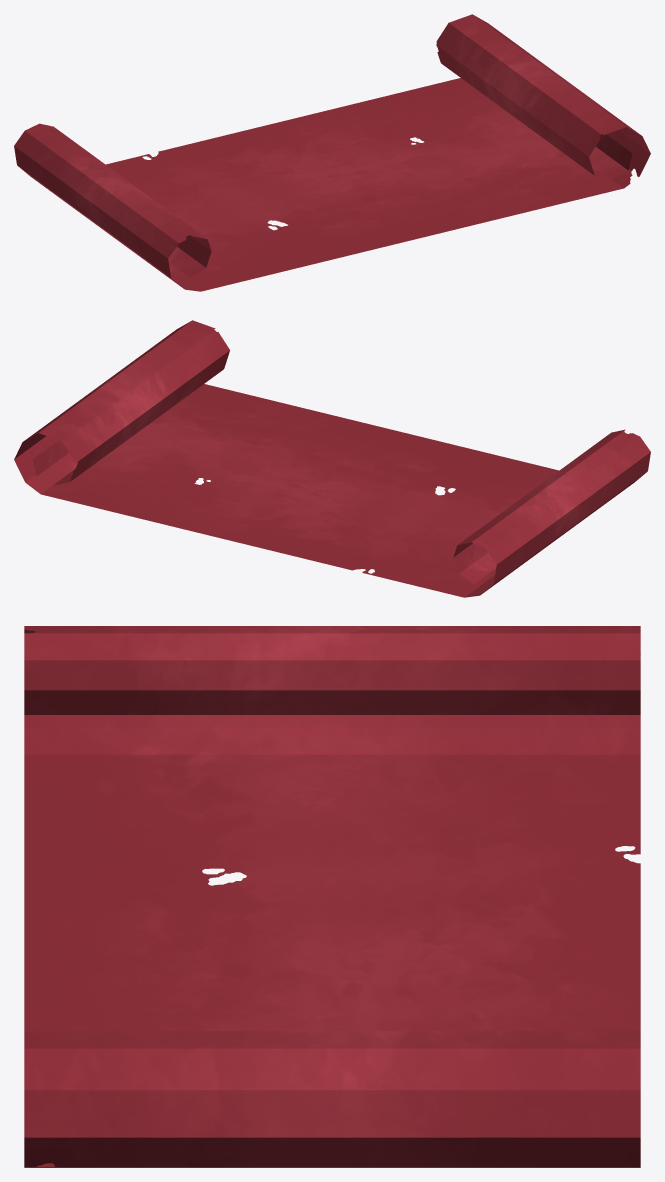
File: PRM Scroll.fbx
The picture shows the model from 3 angles, top to bottom: view 1: azimuth 30°, elevation 25°; view 2: azimuth 150°, elevation 25°; view 3: azimuth 270°, elevation 25°; orthographic projection. The views are drawn at different scales.
Visible parts, largest first — view 1: Scroll; view 2: Scroll; view 3: Scroll.
Part boxes in pixels (bbox=[...]): Scroll: bbox=[14, 14, 650, 291]; Scroll: bbox=[14, 320, 650, 597]; Scroll: bbox=[24, 626, 640, 1167].
Size of the model in its own units: 509 by 61.24 by 281.
